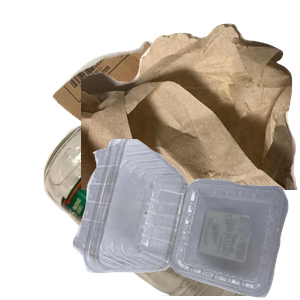cardboard: (50, 38, 233, 184)
glass: (41, 120, 281, 300)
plastic: (70, 139, 300, 300)
trash: (81, 21, 300, 201)
